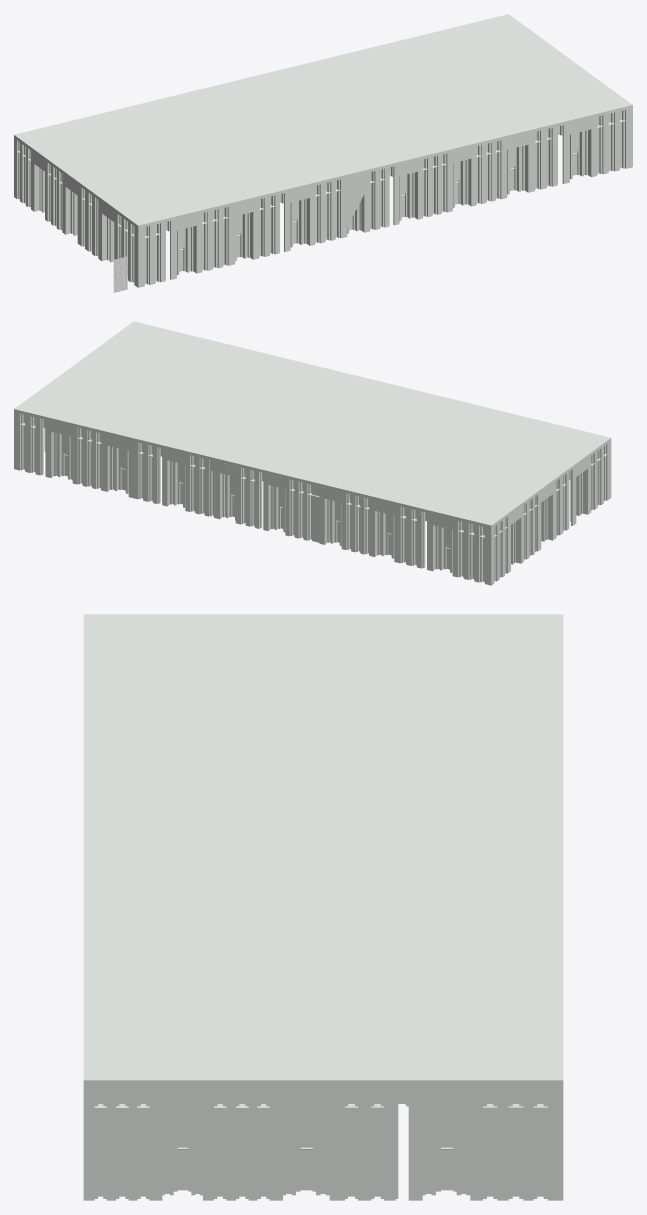
The picture shows the model from 3 angles, top to bottom: view 1: azimuth 30°, elevation 25°; view 2: azimuth 150°, elevation 25°; view 3: azimuth 270°, elevation 25°; orthographic projection. The views are drawn at different scales.
Parts seen in each view (by area): view 1: Mesh14 Model, Mesh13 Model, Mesh10 Component_3_2 Model, Mesh11 Component_3_2 Model, Mesh1 Component_2_1 Model, Mesh21 Model, Mesh3 Component_2_3 Model, Mesh12 Component_2_8 Model, Mesh27 Model; view 2: Mesh14 Model, Mesh10 Component_3_2 Model, Mesh11 Component_3_2 Model, Mesh6 Component_2_6 Model, Mesh4 Component_2_4 Model, Mesh21 Model, Mesh5 Component_2_5 Model, Mesh12 Component_2_8 Model; view 3: Mesh14 Model, Mesh8 Component_3_1 Model, Mesh9 Component_3_1 Model, Mesh7 Component_2_7 Model, Mesh24 Model.
Part boxes in pixels (x1,y1,x2,y2): Mesh14 Model: [14, 14, 632, 287]; Mesh13 Model: [361, 132, 534, 232]; Mesh10 Component_3_2 Model: [77, 188, 138, 287]; Mesh11 Component_3_2 Model: [14, 140, 65, 234]; Mesh1 Component_2_1 Model: [235, 212, 253, 260]; Mesh21 Model: [14, 135, 138, 228]; Mesh3 Component_2_3 Model: [507, 145, 528, 194]; Mesh12 Component_2_8 Model: [65, 187, 77, 235]; Mesh27 Model: [113, 256, 127, 292]; Mesh14 Model: [14, 321, 611, 585]; Mesh10 Component_3_2 Model: [553, 444, 611, 540]; Mesh11 Component_3_2 Model: [491, 495, 541, 585]; Mesh6 Component_2_6 Model: [107, 446, 128, 493]; Mesh4 Component_2_4 Model: [375, 511, 394, 558]; Mesh21 Model: [491, 438, 611, 538]; Mesh5 Component_2_5 Model: [220, 473, 235, 520]; Mesh12 Component_2_8 Model: [541, 494, 552, 541]; Mesh14 Model: [83, 614, 563, 1200]; Mesh8 Component_3_1 Model: [329, 1086, 562, 1200]; Mesh9 Component_3_1 Model: [83, 1086, 282, 1200]; Mesh7 Component_2_7 Model: [283, 1108, 329, 1195]; Mesh24 Model: [408, 1086, 482, 1107].
Size of the model in its own units: 26.15 by 3 by 10.86.
2 materials, 2 textured.
